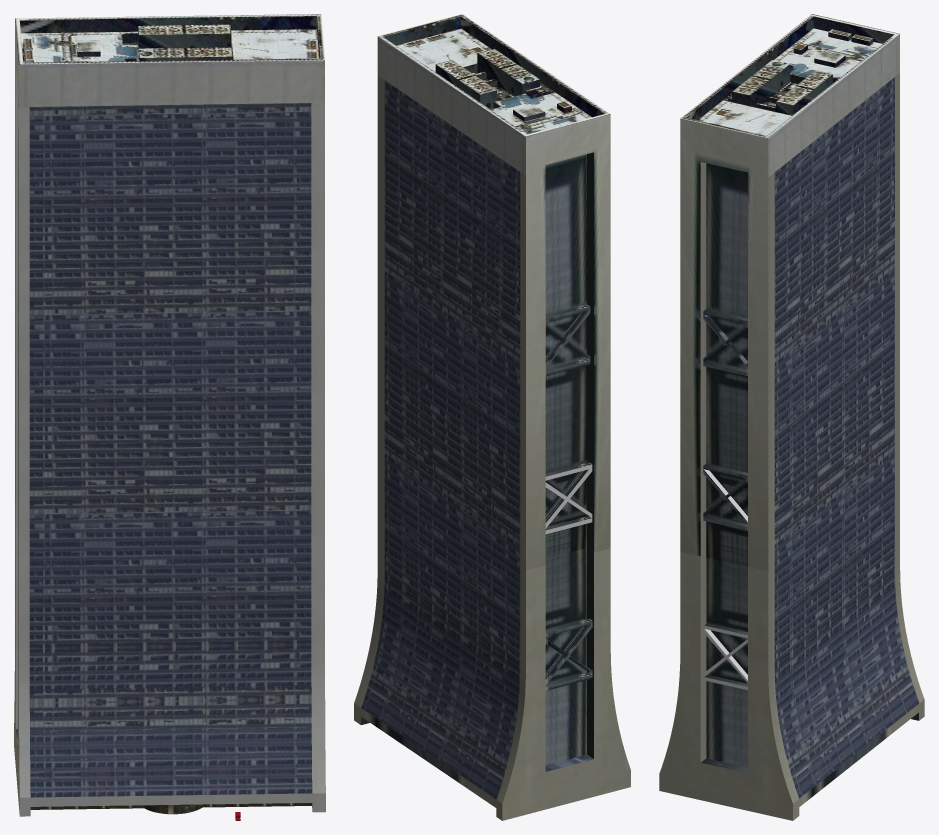
Rendered from Solow-Building.fbx.
3 views of the same model, side by side, from view 1: azimuth 30°, elevation 25°; view 2: azimuth 150°, elevation 25°; view 3: azimuth 270°, elevation 25° (orthographic). The views are drawn at different scales.
Parts seen in each view (by area): view 1: Model; view 2: Model; view 3: Model.
Boxes of the visible parts, box(x1,y1,x2,y2) form: Model: box(14, 14, 325, 820); Model: box(354, 14, 630, 820); Model: box(659, 14, 924, 820).
Size of what is drawn, in the model's own units: 87.71 by 206 by 73.09.
